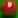red: (0, 0, 18, 18)
